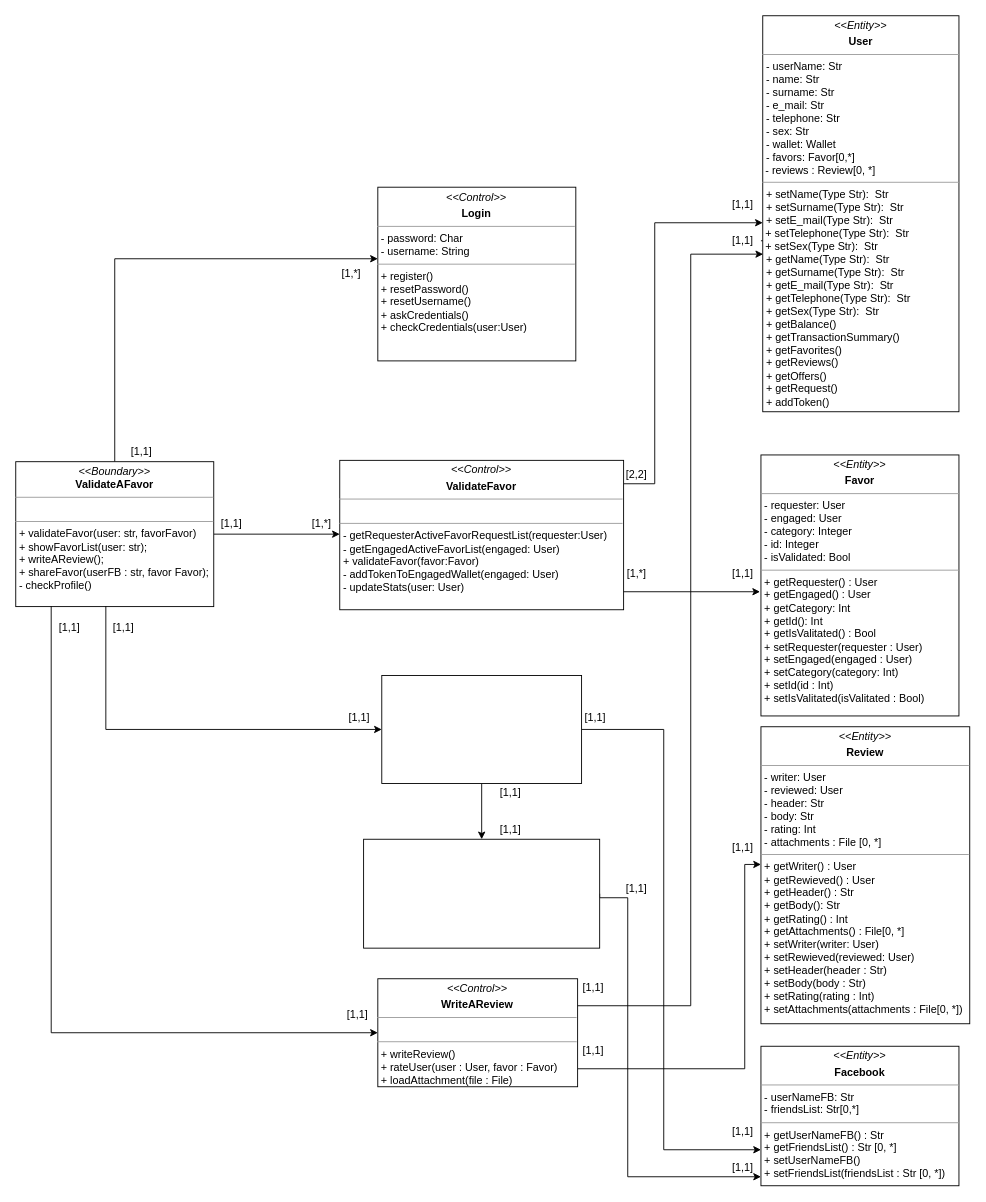
This 986x1202 diagram has some shape labels left out. The centre of each missing label's shape, as x and y in pixels:
"<<Control>> FacebookLogin + FacebookLogin(userName : Str, passwd : Str)" goes at point (481, 893).
"<<Control>> ShareFavor + postFavorToFacebook()" goes at point (481, 729).
